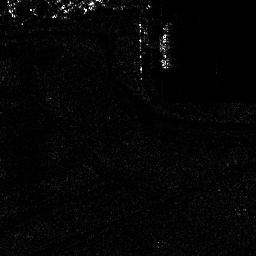ship: (160, 20, 174, 68)
